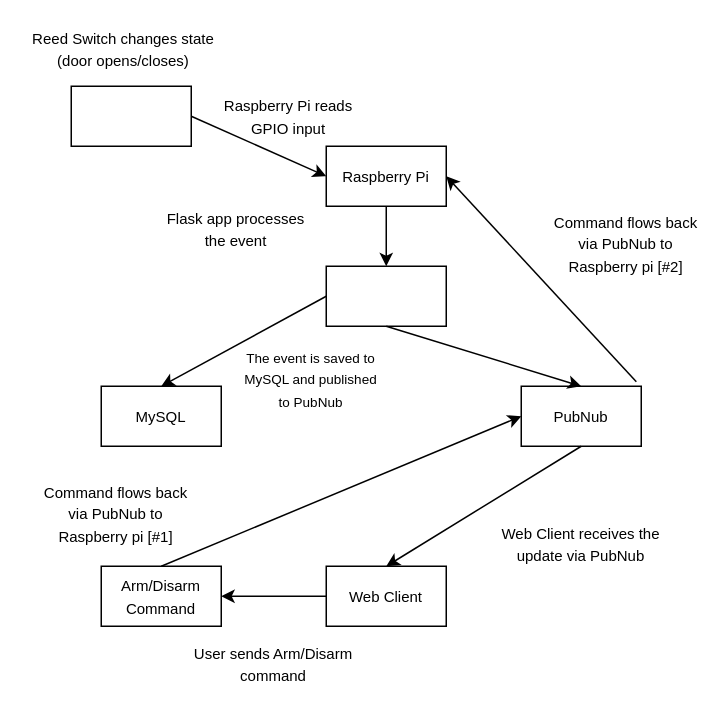
Some shapes in this 726 by 711 pixel diagram are drawn without their labels. The centre of each missing label's shape, as x and y in pixels:
Flask App: the point at 385,295
Reed Switch: the point at 130,115
